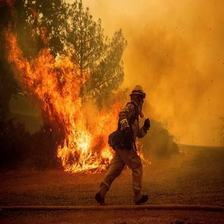fire: (5, 32, 119, 172)
